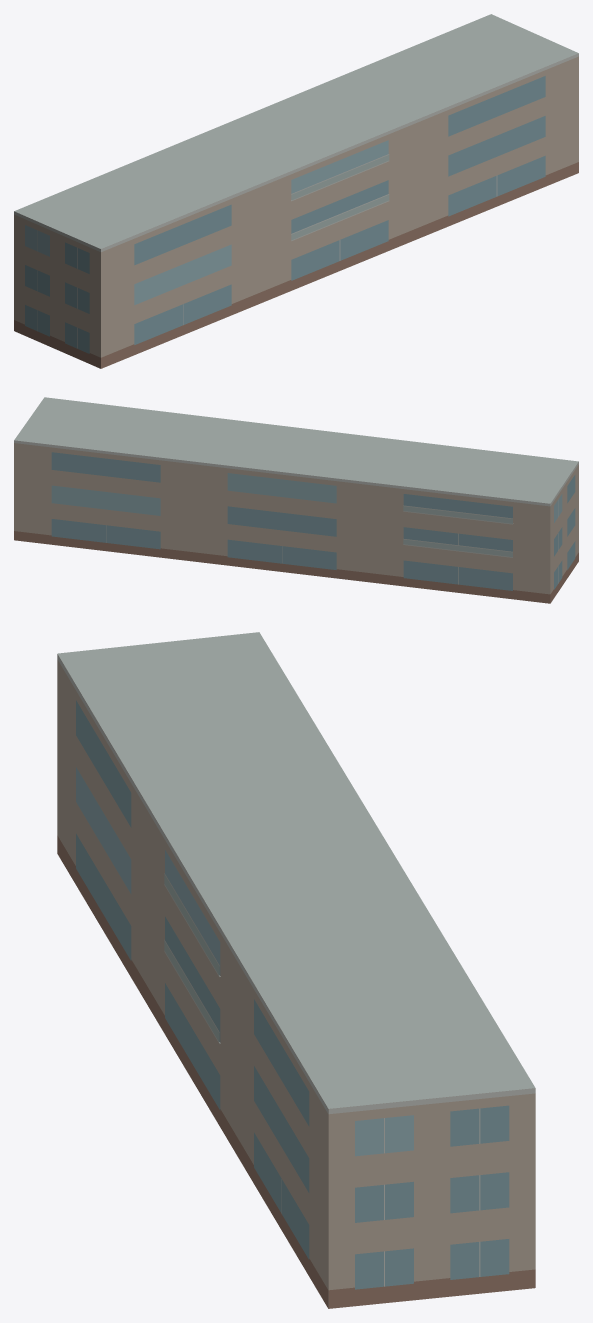
File: survey-upis-32766167.glb
3 renders of one model, top to bottom at view 1: azimuth 30°, elevation 25°; view 2: azimuth 150°, elevation 25°; view 3: azimuth 270°, elevation 25°, orthographic. The views are drawn at different scales.
Parts seen in each view (by area): view 1: survey-upis-32766167.tmp; view 2: survey-upis-32766167.tmp; view 3: survey-upis-32766167.tmp.
Boxes of the visible parts, box(x1,y1,x2,y2) form: survey-upis-32766167.tmp: box(14, 14, 578, 368); survey-upis-32766167.tmp: box(14, 397, 578, 603); survey-upis-32766167.tmp: box(57, 632, 535, 1308).
Bounding box in the file's own units: 46.82 × 9.15 × 19.85.
